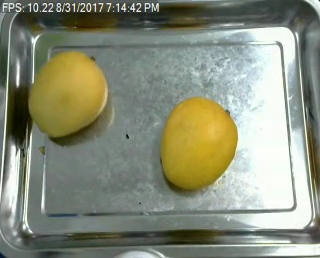Mango: (157, 93, 239, 190), (29, 48, 109, 142)
